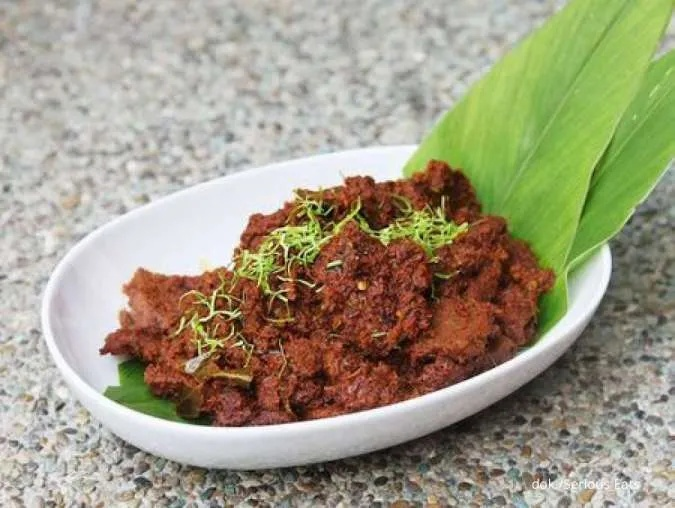rendang: (104, 168, 527, 426)
